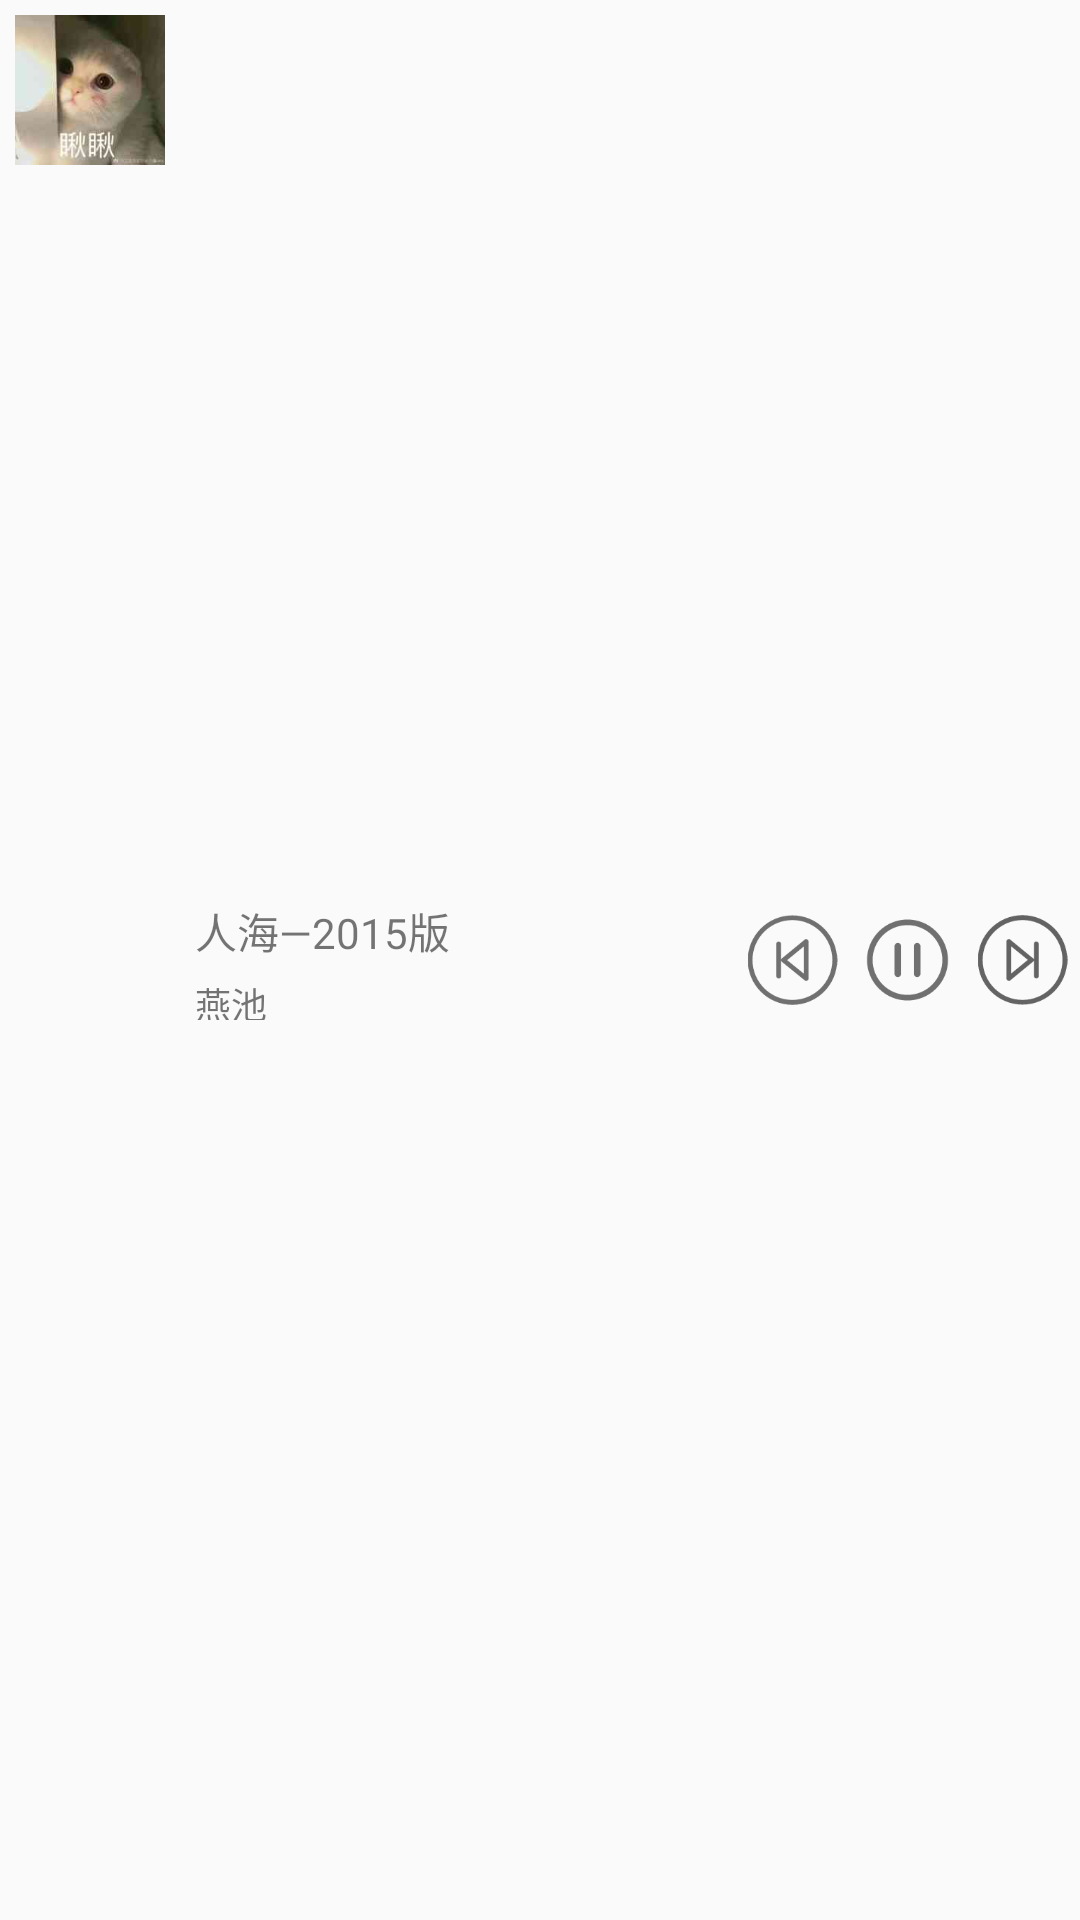

Named icons in this screenshot (1080 × 1920) and their bounding boxes, bbox=[x1, y1, x2, y2]:
miao: bbox=[15, 15, 165, 165]
next: bbox=[978, 915, 1068, 1005]
pre: bbox=[748, 915, 838, 1005]
